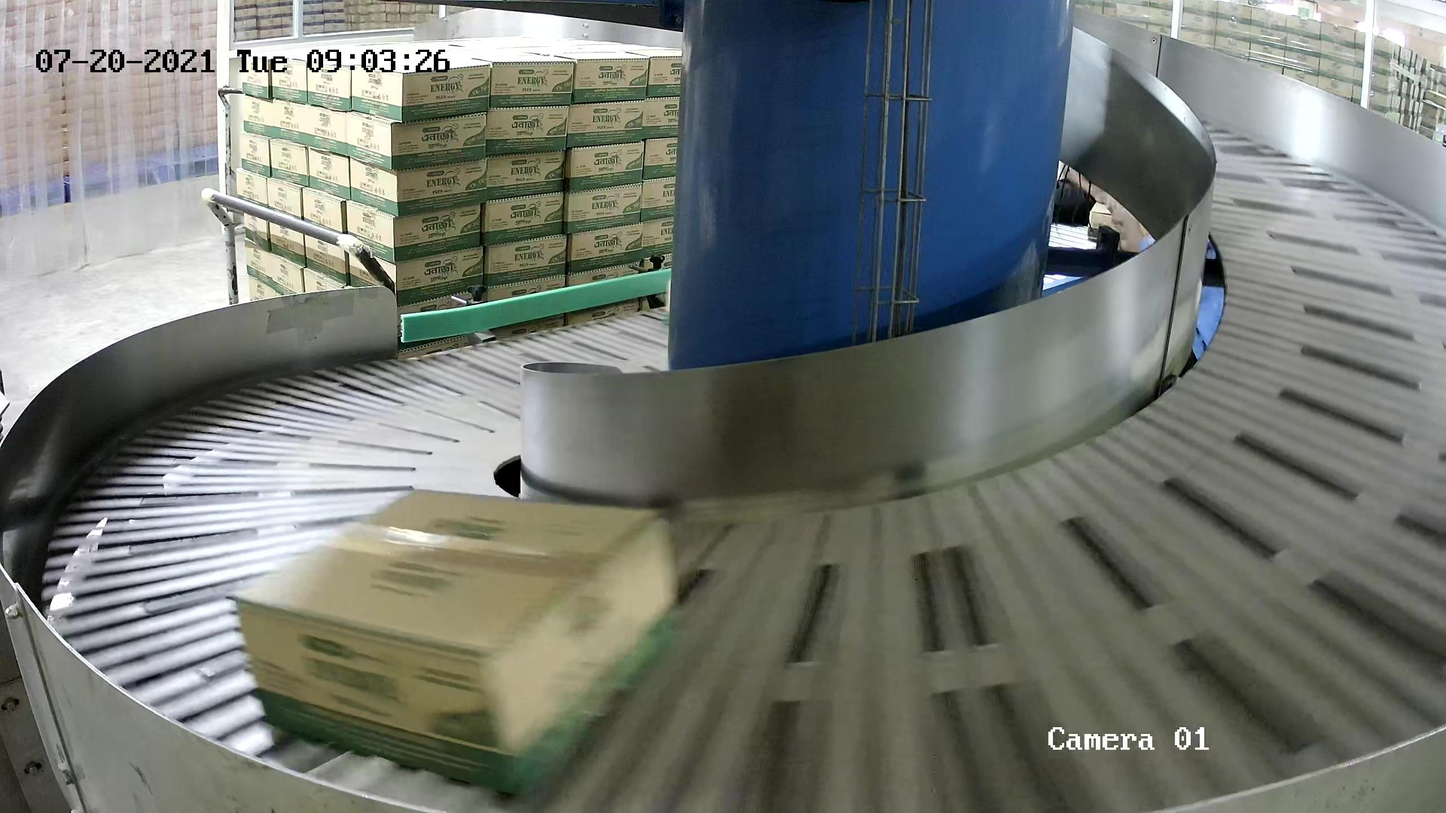Box: (227, 489, 691, 801)
